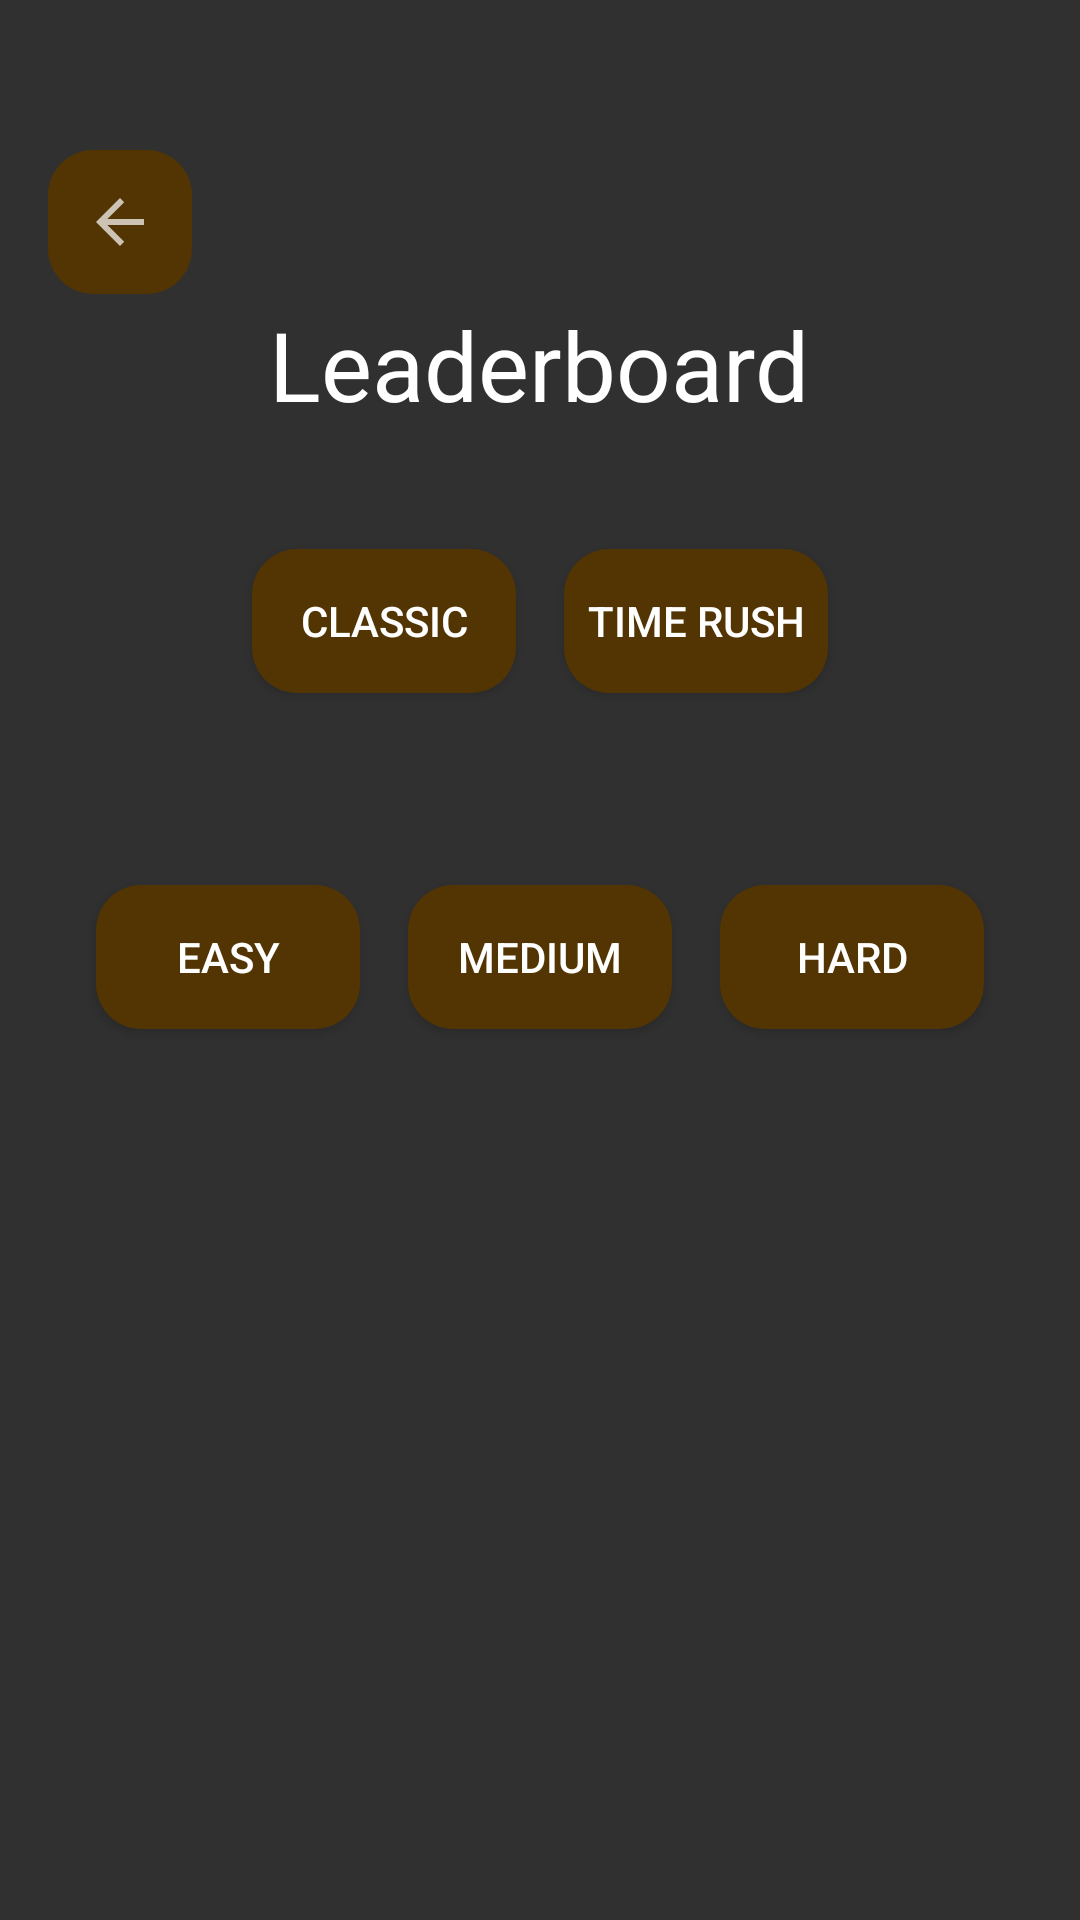

Screen size 1080*1920. Icon name, then its box in pixels as {"x1": x1, "y1": y1, "x2": x2, "y2": y2}:
Back button: {"x1": 48, "y1": 150, "x2": 192, "y2": 294}
